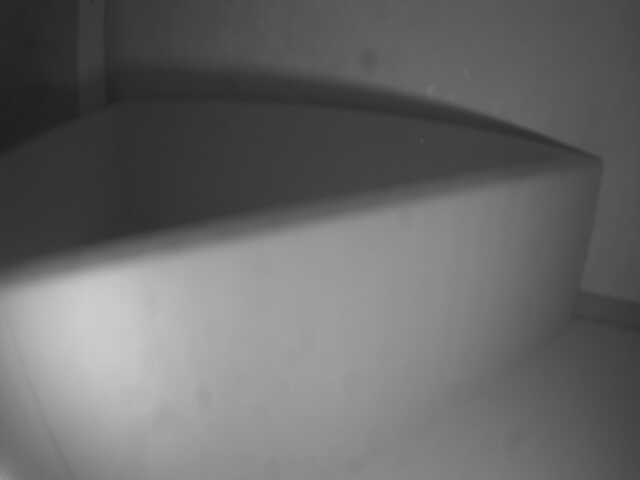Point: (1, 162, 598, 478)
